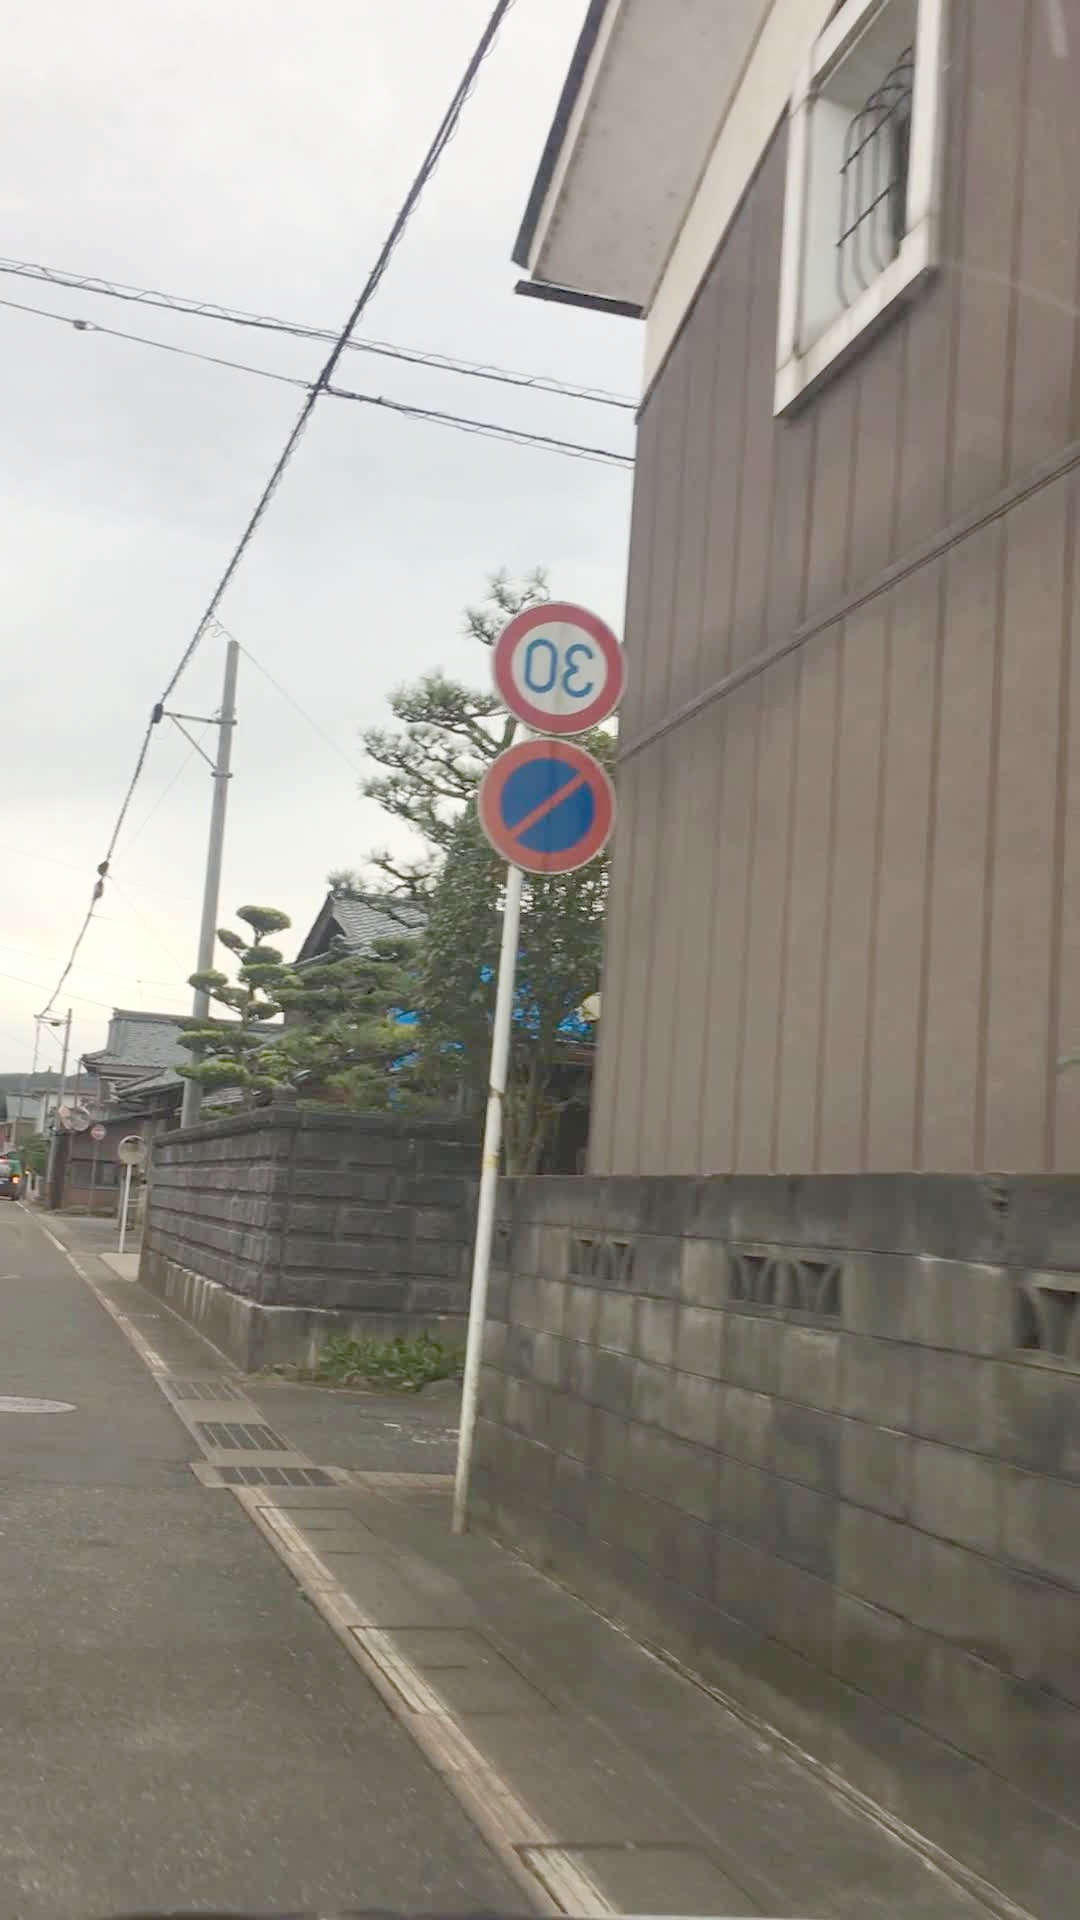Prohibition_sign: (488, 736, 628, 894)
Speed_sign: (488, 592, 644, 750)
